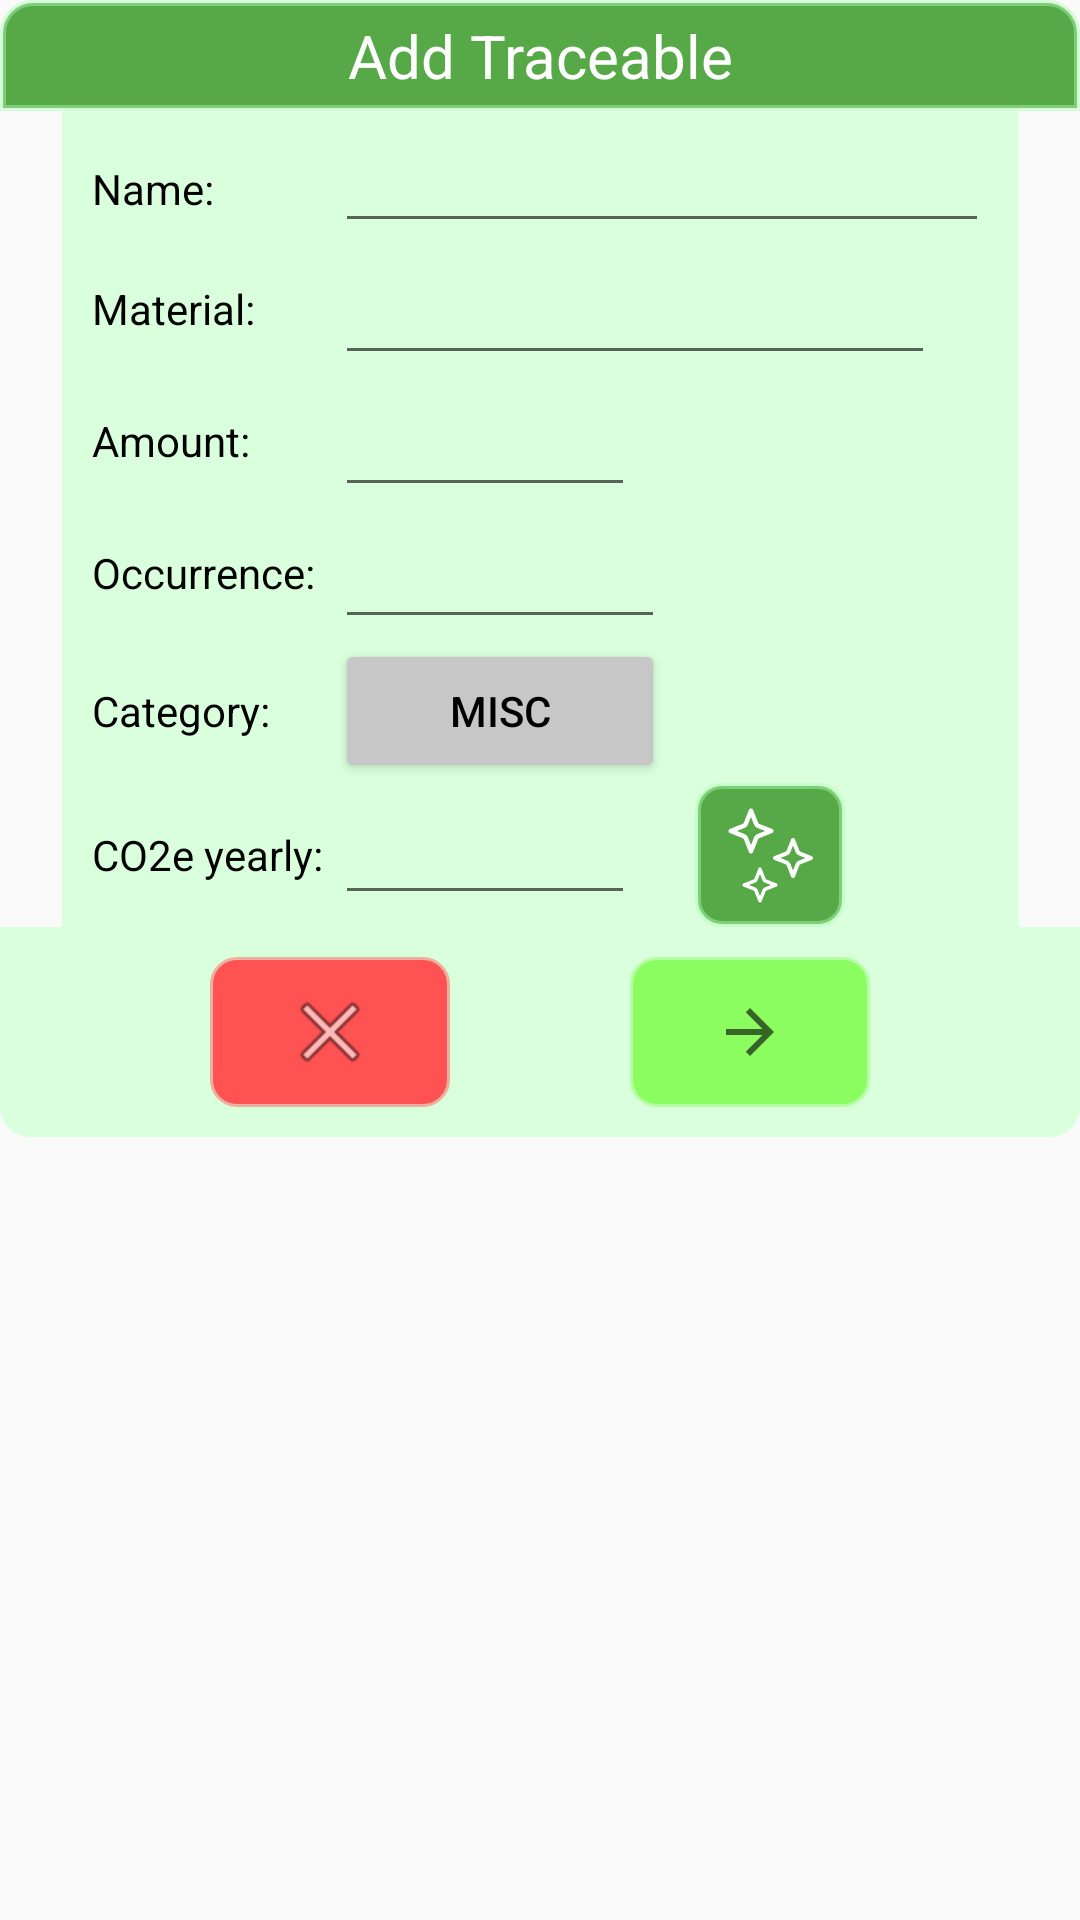

Icons on this 1080 x 1920 Android screen, each with the point to tap as point (x, y):
close clear cancel: point (330, 1032)
twinkle: point (770, 855)
